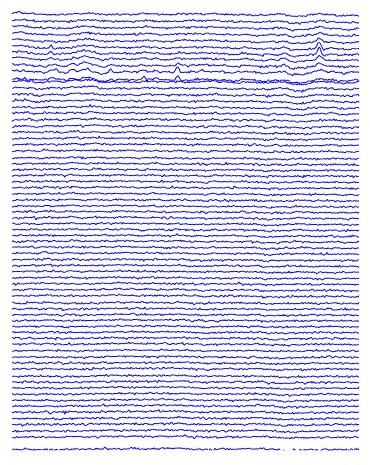defect: (307, 37, 332, 63), (165, 61, 187, 89)
